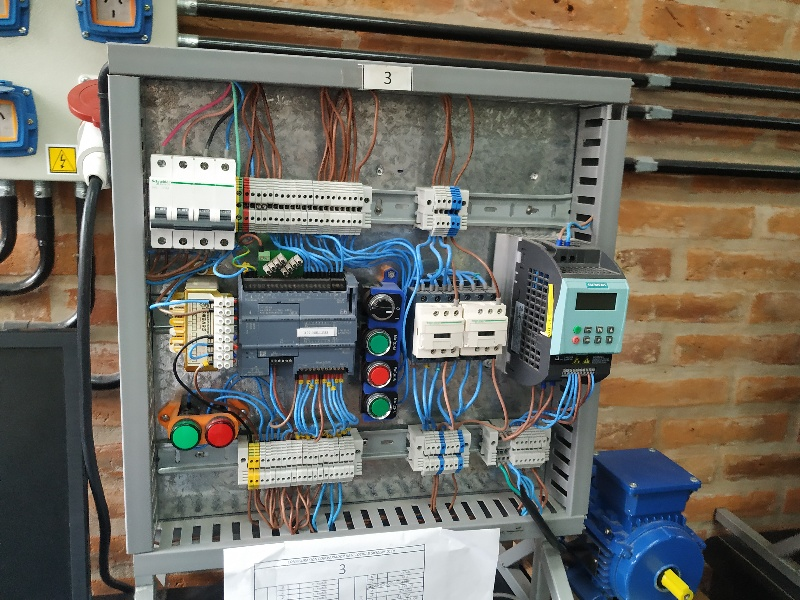Tablero 3: (130, 62, 632, 534)
